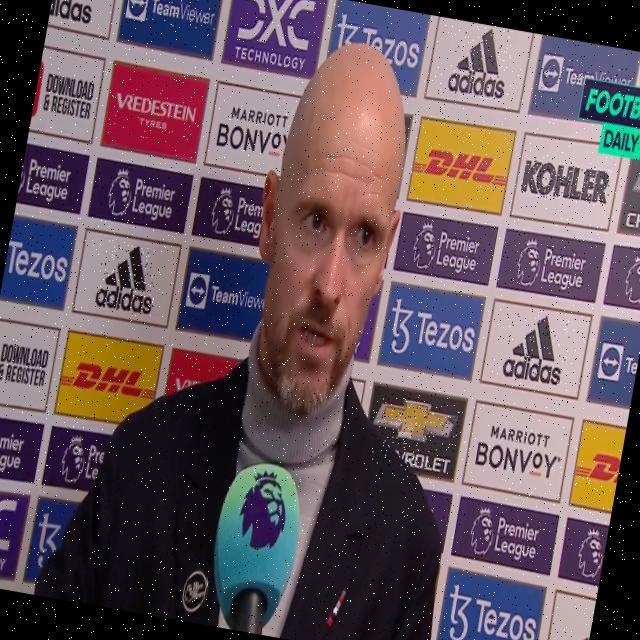Adidas: (445, 21, 515, 102), (93, 239, 163, 319), (501, 310, 572, 388)
Chevrolet: (368, 392, 461, 476)
Kohler: (519, 154, 613, 209)
TeamViewer: (538, 53, 636, 105), (125, 0, 220, 34)
